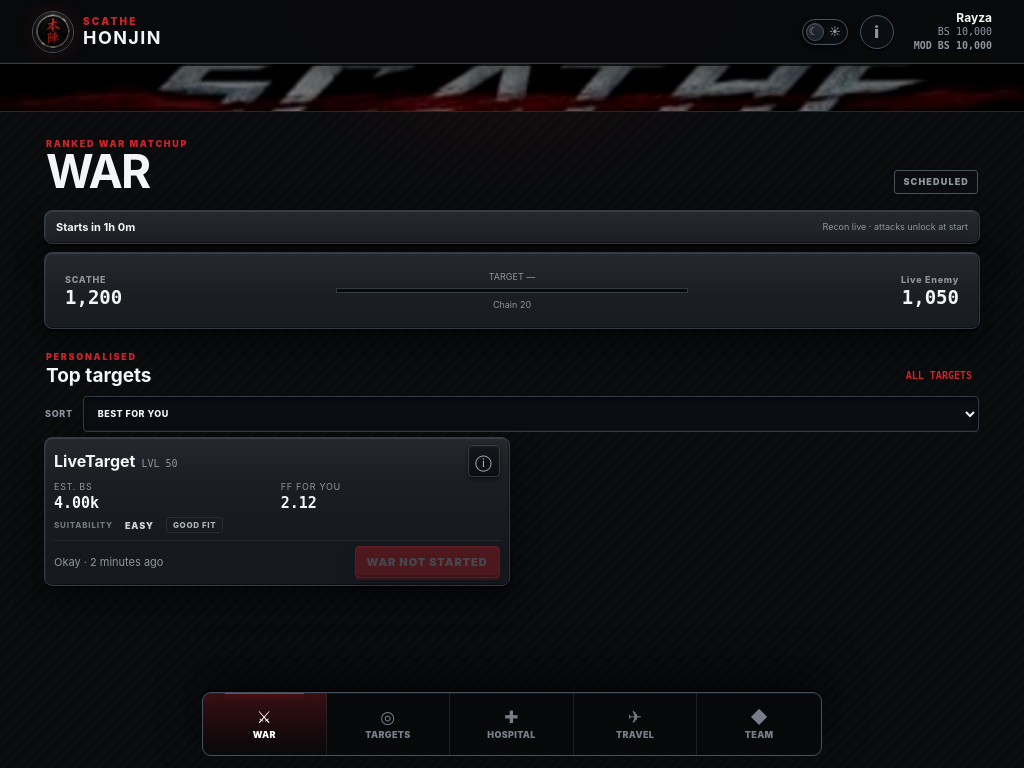
it: live HONJIN shell › loads scheduled-matchup recon while keeping WAR attacks locked until start
Expected: the text "Live Enemy" is shown, [901, 274, 959, 285]
Expected: the text "RANKED WAR MATCHUP" is shown, [46, 138, 188, 149]
What coordinates should you click on to do the following:
click the button "◎ TARGETS"
I would click on:
 (388, 724)
Its box is [327, 693, 450, 755].
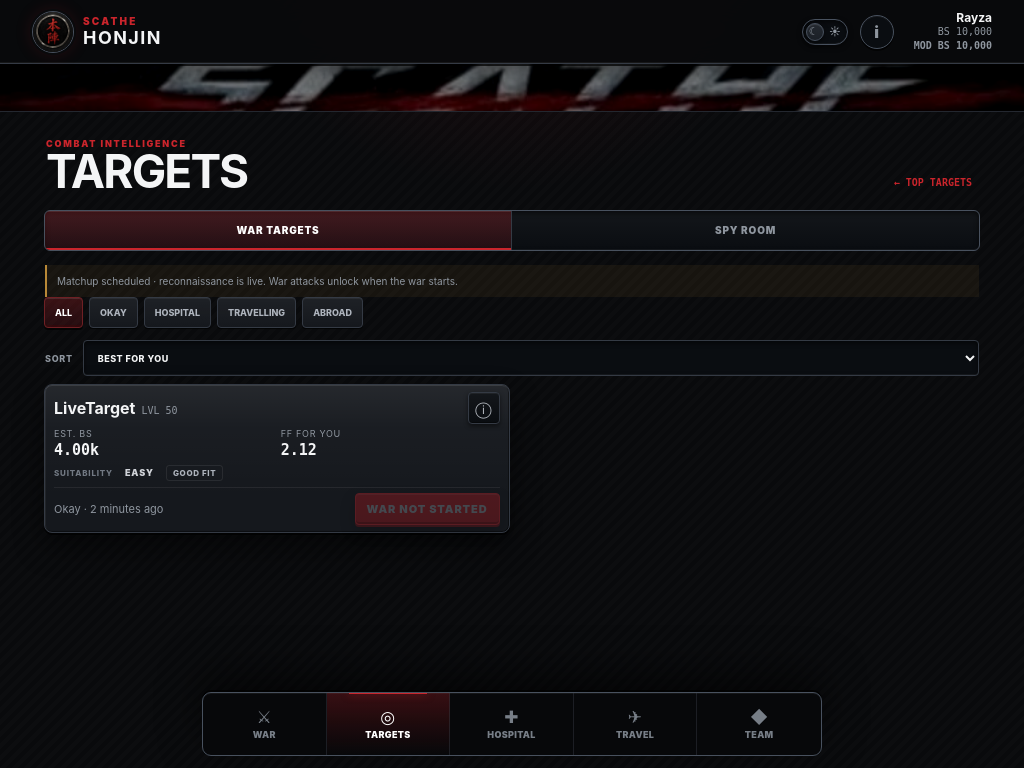
Expected: the text "LiveTarget" is shown, [54, 398, 135, 418]
Result: the text "Matchup scheduled · reconnaissance is live" is shown at [57, 275, 458, 287]
What coordinates should you click on to do the following:
click the button named "Intel for LiveTarget"
I would click on:
 (484, 408)
Its box is [468, 392, 500, 424].
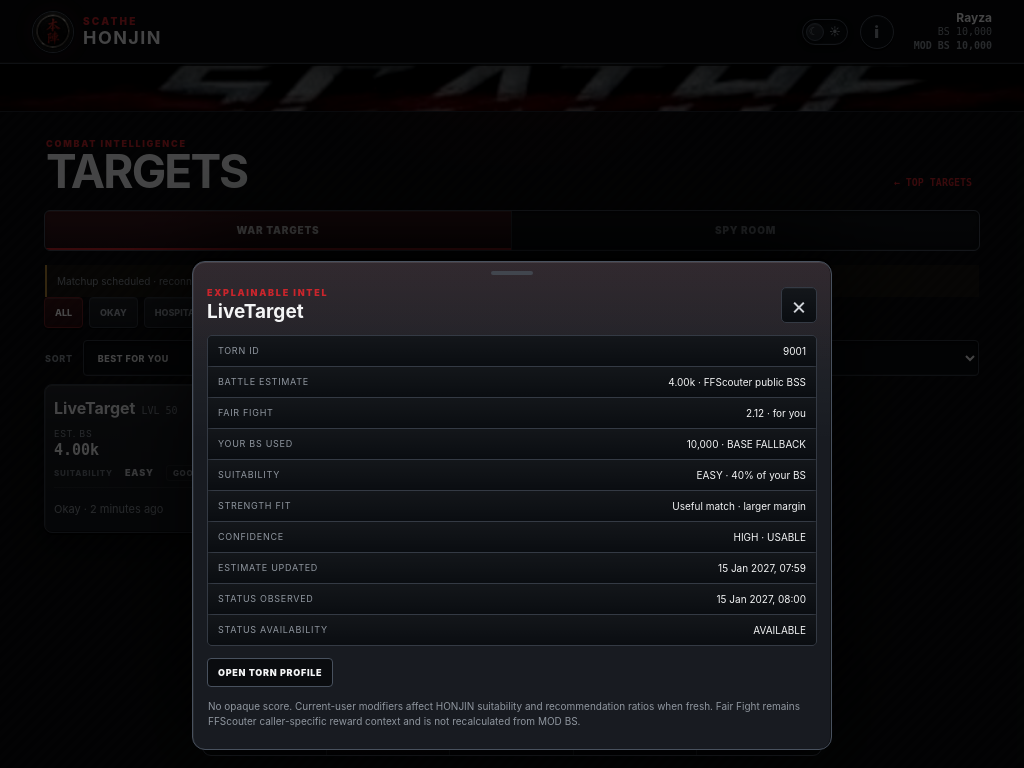
Result: the text "Status availability" is shown at [218, 624, 328, 635]
Result: the text "AVAILABLE" is shown at [753, 624, 806, 636]
